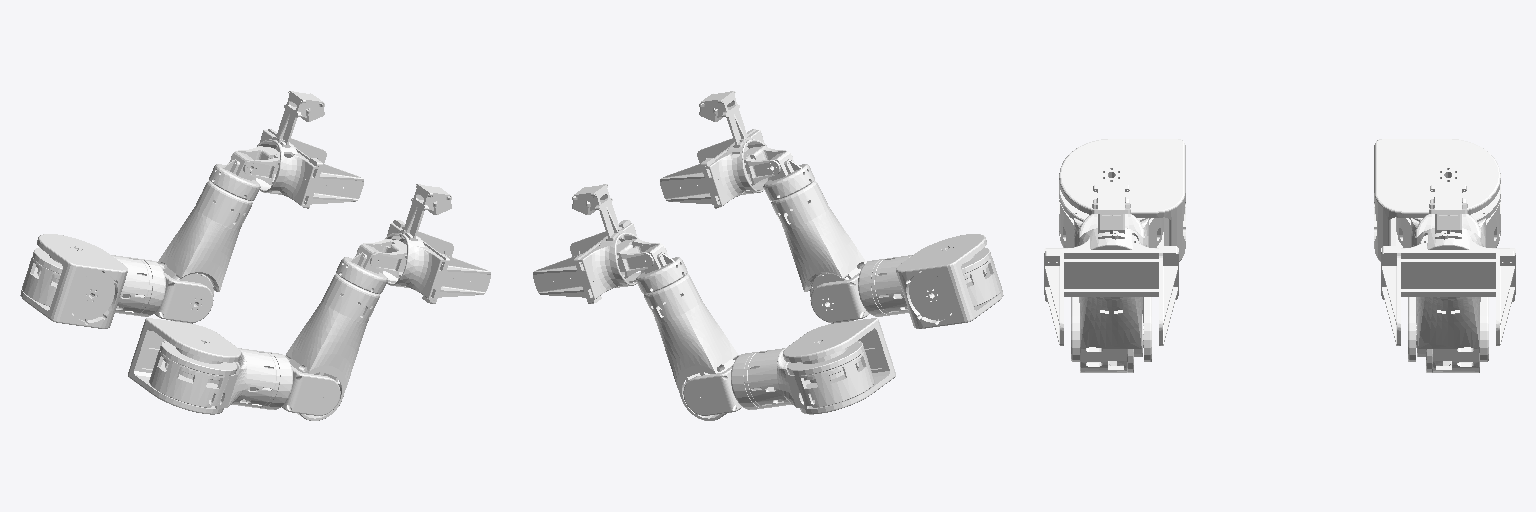
robot.urdf — two_arm_URDF:
<?xml version='1.0' encoding='utf-8'?>
<robot name="two_arm_URDF">
    <!--This URDF file is generated by ACDC4Robot: https://github.com/bionicdl-sustech/ACDC4Robot-->
    <material name="white">
        <color rgba="1.0 1.0 1.0 1.0"/>
    </material>
    <link name="base">
        <inertial>
            <origin xyz="0.40410575531806814 0.059937551918568255 1.9955650574212371" rpy="0.0 0.0 0.0" />
            <mass value="7.623086454049788" />
            <inertia ixx="-46.32176427456355" iyy="-48.21185693424127" izz="-1.0601741395840976" ixy="-0.00026200070757104963" iyz="-0.0014707216286333577" ixz="9.345162621353573" />
        </inertial>
        <visual name="base_visual">
            <origin xyz="0.0 0.0 0.0" rpy="0.0 0.0 0.0" />
            <geometry>
                <mesh filename="package://final_project_two_arm/meshes/base.stl" scale="0.001 0.001 0.001" />
            </geometry>
            <material name="white"/>
        </visual>
        <collision name="base_collision">
            <origin xyz="0.0 0.0 0.0" rpy="0.0 0.0 0.0" />
            <geometry>
                <mesh filename="package://final_project_two_arm/meshes/base.stl" scale="0.001 0.001 0.001" />
            </geometry>
        </collision>
    </link>
    <link name="link_1_L">
        <inertial>
            <origin xyz="-0.002668773721014537 -0.000839197752934523 0.04660885178456152" rpy="0.0 -0.0 0.0" />
            <mass value="3.421743575363238" />
            <inertia ixx="0.011838423004306875" iyy="0.010637735631850609" izz="0.009889603802875015" ixy="0.0005021978197019967" iyz="-0.00017075019695666818" ixz="-0.0004303792882128651" />
        </inertial>
        <visual name="link_1_L_visual">
            <origin xyz="-1.0566521080335178e-09 -1.587468818065041e-09 -0.18219999738539308" rpy="1.5707963267948963 7.134092525342091e-17 -1.2217304763960308" />
            <geometry>
                <mesh filename="package://final_project_two_arm/meshes/link_1_L.stl" scale="0.001 0.001 0.001" />
            </geometry>
            <material name="white"/>
        </visual>
        <collision name="link_1_L_collision">
            <origin xyz="-1.0566521080335178e-09 -1.587468818065041e-09 -0.18219999738539308" rpy="1.5707963267948963 7.134092525342091e-17 -1.2217304763960308" />
            <geometry>
                <mesh filename="package://final_project_two_arm/meshes/link_1_L.stl" scale="0.001 0.001 0.001" />
            </geometry>
        </collision>
    </link>
    <link name="link_2_L">
        <inertial>
            <origin xyz="-0.05421558600531332 -8.982456499495584e-08 -0.03797355580452049" rpy="5.559350596991761e-49 -0.0 0.0" />
            <mass value="6.111704826426955" />
            <inertia ixx="0.02716617825131984" iyy="0.027902603443471632" izz="0.011141471235318834" ixy="-1.4817129669053575e-08" iyz="-3.1745453488163394e-09" ixz="-0.007623201693326967" />
        </inertial>
        <visual name="link_2_L_visual">
            <origin xyz="-0.03723531841253132 -0.2599999973853932 0.013552551056651945" rpy="-1.7166778490517746e-16 0.3490658503988658 -5.198791104771606e-16" />
            <geometry>
                <mesh filename="package://final_project_two_arm/meshes/link_2_L.stl" scale="0.001 0.001 0.001" />
            </geometry>
            <material name="white"/>
        </visual>
        <collision name="link_2_L_collision">
            <origin xyz="-0.03723531841253132 -0.2599999973853932 0.013552551056651945" rpy="-1.7166778490517746e-16 0.3490658503988658 -5.198791104771606e-16" />
            <geometry>
                <mesh filename="package://final_project_two_arm/meshes/link_2_L.stl" scale="0.001 0.001 0.001" />
            </geometry>
        </collision>
    </link>
    <link name="link_4_L">
        <inertial>
            <origin xyz="0.03602465587835628 -0.0634388659252234 0.037597948235984335" rpy="0.0 -0.0 0.0" />
            <mass value="4.663440786379495" />
            <inertia ixx="0.017878244469046622" iyy="0.008963666837180861" izz="0.022560219247713287" ixy="0.007374875777730403" iyz="0.0002165922392891718" ixz="-0.00012391655282318354" />
        </inertial>
        <visual name="link_4_L_visual">
            <origin xyz="-0.11000000448374453 0.1905255887767474 -0.22199999738539944" rpy="1.5707963267949314 2.063224007579454e-14 -2.6179938779914944" />
            <geometry>
                <mesh filename="package://final_project_two_arm/meshes/link_4_L.stl" scale="0.001 0.001 0.001" />
            </geometry>
            <material name="white"/>
        </visual>
        <collision name="link_4_L_collision">
            <origin xyz="-0.11000000448374453 0.1905255887767474 -0.22199999738539944" rpy="1.5707963267949314 2.063224007579454e-14 -2.6179938779914944" />
            <geometry>
                <mesh filename="package://final_project_two_arm/meshes/link_4_L.stl" scale="0.001 0.001 0.001" />
            </geometry>
        </collision>
    </link>
    <link name="link_3_L">
        <inertial>
            <origin xyz="0.03272090834140208 -0.0003896912791539364 0.011909419364326634" rpy="0.0 -0.0 0.0" />
            <mass value="1.049458783805515" />
            <inertia ixx="0.0020546014496497234" iyy="0.0010995556057020878" izz="0.00233559795205604" ixy="9.224035152757826e-06" iyz="3.352272086570157e-06" ixz="-0.00011789250890269581" />
        </inertial>
        <visual name="link_3_L_visual">
            <origin xyz="-0.151525431056652 0.25999999738539276 -0.055150751587468724" rpy="3.1415926535897922 1.2217304763960308 1.428356116882155e-15" />
            <geometry>
                <mesh filename="package://final_project_two_arm/meshes/link_3_L.stl" scale="0.001 0.001 0.001" />
            </geometry>
            <material name="white"/>
        </visual>
        <collision name="link_3_L_collision">
            <origin xyz="-0.151525431056652 0.25999999738539276 -0.055150751587468724" rpy="3.1415926535897922 1.2217304763960308 1.428356116882155e-15" />
            <geometry>
                <mesh filename="package://final_project_two_arm/meshes/link_3_L.stl" scale="0.001 0.001 0.001" />
            </geometry>
        </collision>
    </link>
    <link name="link_5_L">
        <inertial>
            <origin xyz="0.011664701698788065 0.00020327928236483218 -0.02020386505189487" rpy="0.0 -0.0 -1.7516230804060217e-46" />
            <mass value="0.9945622772727956" />
            <inertia ixx="0.0005376359127803321" iyy="0.0005036146468778977" izz="0.0005867086739891891" ixy="-2.0193902573462093e-06" iyz="3.5068446871885923e-06" ixz="-4.24982292838438e-05" />
        </inertial>
        <visual name="link_5_L_visual">
            <origin xyz="-0.2006250044837452 0.2599999973854 0.34749268877674866" rpy="2.0986767188766295e-14 0.5235987755982988 3.141592653589769" />
            <geometry>
                <mesh filename="package://final_project_two_arm/meshes/link_5_L.stl" scale="0.001 0.001 0.001" />
            </geometry>
            <material name="white"/>
        </visual>
        <collision name="link_5_L_collision">
            <origin xyz="-0.2006250044837452 0.2599999973854 0.34749268877674866" rpy="2.0986767188766295e-14 0.5235987755982988 3.141592653589769" />
            <geometry>
                <mesh filename="package://final_project_two_arm/meshes/link_5_L.stl" scale="0.001 0.001 0.001" />
            </geometry>
        </collision>
    </link>
    <link name="end_point_L">
        <inertial>
            <origin xyz="0.07914667410098673 0.012226265043296075 0.01900223227536742" rpy="0.0 -0.0 0.0" />
            <mass value="2.238441847971124" />
            <inertia ixx="0.007812594483082247" iyy="0.006560847944082182" izz="0.006038197326536099" ixy="0.00037792118561552623" iyz="-5.8909878743504796e-05" ixz="1.581061220534667e-05" />
        </inertial>
        <visual name="end_point_L_visual">
            <origin xyz="-0.42286168410743896 -0.15390906732450685 -0.240999997385372" rpy="1.5707963267948768 3.098761874578949e-14 -1.2217304763960308" />
            <geometry>
                <mesh filename="package://final_project_two_arm/meshes/end_point_L.stl" scale="0.001 0.001 0.001" />
            </geometry>
            <material name="white"/>
        </visual>
        <collision name="end_point_L_collision">
            <origin xyz="-0.42286168410743896 -0.15390906732450685 -0.240999997385372" rpy="1.5707963267948768 3.098761874578949e-14 -1.2217304763960308" />
            <geometry>
                <mesh filename="package://final_project_two_arm/meshes/end_point_L.stl" scale="0.001 0.001 0.001" />
            </geometry>
        </collision>
    </link>
    <link name="link_1_R">
        <inertial>
            <origin xyz="-0.0026687737210101758 -0.0008391977529331918 -0.04660884655535592" rpy="0.0 -0.0 0.0" />
            <mass value="3.421743575364216" />
            <inertia ixx="0.011838423004310324" iyy="0.010637735631854417" izz="0.009889603802877626" ixy="0.0005021978197017701" iyz="0.00017075019695694384" ixz="0.00043037928821351425" />
        </inertial>
        <visual name="link_1_R_visual">
            <origin xyz="-1.0566520547428126e-09 -1.5874687864236847e-09 0.18220000261460745" rpy="-1.5707963267948963 7.134092525342202e-17 -1.2217304763960306" />
            <geometry>
                <mesh filename="package://final_project_two_arm/meshes/link_1_R.stl" scale="0.001 0.001 0.001" />
            </geometry>
            <material name="white"/>
        </visual>
        <collision name="link_1_R_collision">
            <origin xyz="-1.0566520547428126e-09 -1.5874687864236847e-09 0.18220000261460745" rpy="-1.5707963267948963 7.134092525342202e-17 -1.2217304763960306" />
            <geometry>
                <mesh filename="package://final_project_two_arm/meshes/link_1_R.stl" scale="0.001 0.001 0.001" />
            </geometry>
        </collision>
    </link>
    <link name="link_2_R">
        <inertial>
            <origin xyz="-0.05421560646906773 -9.602237601047392e-08 0.03797360219644077" rpy="0.0 -0.0 0.0" />
            <mass value="6.111710880540644" />
            <inertia ixx="0.027166211568185605" iyy="0.02790264020447325" izz="0.01114148123800594" ixy="-1.486523979387852e-08" iyz="3.1234863064055762e-09" ixz="0.007623212449300957" />
        </inertial>
        <visual name="link_2_R_visual">
            <origin xyz="-0.0372353184125312 -0.2600000026146075 -0.013552551056652052" rpy="-3.9920352689734593e-16 -0.349065850398866 -2.3881646511518015e-16" />
            <geometry>
                <mesh filename="package://final_project_two_arm/meshes/link_2_R.stl" scale="0.001 0.001 0.001" />
            </geometry>
            <material name="white"/>
        </visual>
        <collision name="link_2_R_collision">
            <origin xyz="-0.0372353184125312 -0.2600000026146075 -0.013552551056652052" rpy="-3.9920352689734593e-16 -0.349065850398866 -2.3881646511518015e-16" />
            <geometry>
                <mesh filename="package://final_project_two_arm/meshes/link_2_R.stl" scale="0.001 0.001 0.001" />
            </geometry>
        </collision>
    </link>
    <link name="link_4_R">
        <inertial>
            <origin xyz="0.03602465269167507 0.06343886803136405 0.03759794262673393" rpy="0.0 -0.0 0.0" />
            <mass value="4.66344073102469" />
            <inertia ixx="0.017878244167787986" iyy="0.008963667160317157" izz="0.022560219201456067" ixy="-0.0073748759605754685" iyz="-0.00021659219433970404" ixz="-0.00012391670165655971" />
        </inertial>
        <visual name="link_4_R_visual">
            <origin xyz="-0.11000000448374499 -0.19052558877674738 -0.22200000261461394" rpy="1.5707963267948644 2.175190069207012e-14 2.6179938779914944" />
            <geometry>
                <mesh filename="package://final_project_two_arm/meshes/link_4_R.stl" scale="0.001 0.001 0.001" />
            </geometry>
            <material name="white"/>
        </visual>
        <collision name="link_4_R_collision">
            <origin xyz="-0.11000000448374499 -0.19052558877674738 -0.22200000261461394" rpy="1.5707963267948644 2.175190069207012e-14 2.6179938779914944" />
            <geometry>
                <mesh filename="package://final_project_two_arm/meshes/link_4_R.stl" scale="0.001 0.001 0.001" />
            </geometry>
        </collision>
    </link>
    <link name="link_5_R">
        <inertial>
            <origin xyz="0.011664449915668342 -0.00020329922140977175 -0.020203432443585197" rpy="0.0 -0.0 0.0" />
            <mass value="0.9944903142302435" />
            <inertia ixx="0.0005375988209976243" iyy="0.000503524663906324" izz="0.0005866507030101997" ixy="2.024886267923409e-06" iyz="-3.5037884166966987e-06" ixz="-4.248017931512277e-05" />
        </inertial>
        <visual name="link_5_R_visual">
            <origin xyz="-0.20062500448374582 -0.26000000261461353 0.3474926887767492" rpy="3.1415926535897745 0.5235987755982989 -3.141592653589768" />
            <geometry>
                <mesh filename="package://final_project_two_arm/meshes/link_5_R.stl" scale="0.001 0.001 0.001" />
            </geometry>
            <material name="white"/>
        </visual>
        <collision name="link_5_R_collision">
            <origin xyz="-0.20062500448374582 -0.26000000261461353 0.3474926887767492" rpy="3.1415926535897745 0.5235987755982989 -3.141592653589768" />
            <geometry>
                <mesh filename="package://final_project_two_arm/meshes/link_5_R.stl" scale="0.001 0.001 0.001" />
            </geometry>
        </collision>
    </link>
    <link name="end_point_R">
        <inertial>
            <origin xyz="0.0791466666602861 -0.01222637189555428 0.019002298543171328" rpy="0.0 1.4779319740925805e-46 0.0" />
            <mass value="2.238439986935529" />
            <inertia ixx="0.007812532780139221" iyy="0.006560782847279012" izz="0.006038206833950621" ixy="-0.00037792979780856877" iyz="5.890855258805285e-05" ixz="1.5812784071190092e-05" />
        </inertial>
        <visual name="end_point_R_visual">
            <origin xyz="-0.4228616841074397 0.15390906732450652 -0.2410000026145887" rpy="1.5707963267949157 3.234100717758874e-14 1.2217304763960306" />
            <geometry>
                <mesh filename="package://final_project_two_arm/meshes/end_point_R.stl" scale="0.001 0.001 0.001" />
            </geometry>
            <material name="white"/>
        </visual>
        <collision name="end_point_R_collision">
            <origin xyz="-0.4228616841074397 0.15390906732450652 -0.2410000026145887" rpy="1.5707963267949157 3.234100717758874e-14 1.2217304763960306" />
            <geometry>
                <mesh filename="package://final_project_two_arm/meshes/end_point_R.stl" scale="0.001 0.001 0.001" />
            </geometry>
        </collision>
    </link>
    <link name="link_3_R">
        <inertial>
            <origin xyz="0.03272091490920747 0.0003896841540610696 0.011909421815884995" rpy="1.0947644252537633e-47 -0.0 0.0" />
            <mass value="1.049458547261083" />
            <inertia ixx="0.0020546010105775654" iyy="0.0010995553063330994" izz="0.0023355973886947656" ixy="-9.224093249278474e-06" iyz="-3.3522941348604336e-06" ixz="-0.00011789245840576959" />
        </inertial>
        <visual name="link_3_R_visual">
            <origin xyz="-0.1515254310566522 -0.2600000026146071 -0.05515075158746881" rpy="-2.304555219687488e-16 1.2217304763960306 -6.561428452979289e-16" />
            <geometry>
                <mesh filename="package://final_project_two_arm/meshes/link_3_R.stl" scale="0.001 0.001 0.001" />
            </geometry>
            <material name="white"/>
        </visual>
        <collision name="link_3_R_collision">
            <origin xyz="-0.1515254310566522 -0.2600000026146071 -0.05515075158746881" rpy="-2.304555219687488e-16 1.2217304763960306 -6.561428452979289e-16" />
            <geometry>
                <mesh filename="package://final_project_two_arm/meshes/link_3_R.stl" scale="0.001 0.001 0.001" />
            </geometry>
        </collision>
    </link>
    <joint name="rot_L1" type="revolute">
        <origin xyz="1.0566520103338918e-09 0.18219999738539272 -1.5874686876138357e-09" rpy="-1.5707963267948961 1.6653345369377336e-16 7.21644966006351e-16" />
        <parent link="base" />
        <child link="link_1_L" />
        <axis xyz="-4.1663675001976565e-32 3.8857805861880464e-16 1.0" />
        <limit lower="-3.1416" upper="3.1416" effort="10.0" velocity="0.34" />
    </joint>
    <joint name="rot_L2" type="revolute">
        <origin xyz="0.013552550000000005 -0.03723531999999997 0.07780000000000005" rpy="1.5707963267948966 -3.8857805861880464e-16 -1.5707963267948966" />
        <parent link="link_1_L" />
        <child link="link_2_L" />
        <axis xyz="-0.939693 9.299886998271218e-32 0.3420199999999999" />
        <limit lower="-2.0944" upper="0.3491" effort="10.0" velocity="0.34" />
    </joint>
    <joint name="rot_L3" type="revolute">
        <origin xyz="-0.09238606999999999 0.0 -0.13797288" rpy="-3.141592653589793 1.5707963267948966 0" />
        <parent link="link_2_L" />
        <child link="link_3_L" />
        <axis xyz="0.939693 2.1078609906538316e-33 0.34202" />
        <limit lower="-3.1416" upper="3.1416" effort="10.0" velocity="1.02" />
    </joint>
    <joint name="rot_L4" type="revolute">
        <origin xyz="0.05520695 0.03800000000000004 0.020093680000000003" rpy="1.5707963267948974 -1.1102230246251565e-16 5.473822126268817e-48" />
        <parent link="link_3_L" />
        <child link="link_4_L" />
        <axis xyz="0.0 7.771561172376089e-16 1.0" />
        <limit lower="-2.0944" upper="0.1745" effort="10.0" velocity="1.02" />
    </joint>
    <joint name="rot_L5" type="revolute">
        <origin xyz="0.090625 -0.15696709999999997 0.038000000000000186" rpy="-1.5707963267948974 -4.733165431326071e-30 0.0" />
        <parent link="link_4_L" />
        <child link="link_5_L" />
        <axis xyz="0.49999999999999994 0.0 -0.866025" />
        <limit lower="-3.1416" upper="3.1416" effort="10.0" velocity="5.11" />
    </joint>
    <joint name="rot_R1" type="revolute">
        <origin xyz="1.0566521702060073e-09 -0.0622000026146073 -1.5874687281369759e-09" rpy="-1.5707963267948968 1.6653345369377336e-16 7.21644966006351e-16" />
        <parent link="base" />
        <child link="link_1_R" />
        <axis xyz="-4.1663675001976565e-32 -3.8857805861880464e-16 1.0" />
        <limit lower="-3.1416" upper="3.1416" effort="10.0" velocity="0.34" />
    </joint>
    <joint name="rot_R2" type="revolute">
        <origin xyz="0.013552550000000005 -0.03723531999999997 -0.07780000000000002" rpy="-1.5707963267948966 3.8857805861880464e-16 -1.5707963267948968" />
        <parent link="link_1_R" />
        <child link="link_2_R" />
        <axis xyz="0.939693 -3.1354432147666987e-32 0.34202" />
        <limit lower="-2.0944" upper="0.3491" effort="10.0" velocity="0.34" />
    </joint>
    <joint name="rot_R3" type="revolute">
        <origin xyz="-0.09238607 0.0 0.13797288" rpy="1.2325951644078305e-32 -1.5707963267948966 0" />
        <parent link="link_2_R" />
        <child link="link_3_R" />
        <axis xyz="-0.939693 -2.1036110025269536e-32 -0.34202" />
        <limit lower="-3.1416" upper="3.1416" effort="10.0" velocity="1.02" />
    </joint>
    <joint name="rot_R4" type="revolute">
        <origin xyz="0.05520695 -0.038000000000000006 0.020093679999999996" rpy="-1.5707963267948974 -3.646298014371764e-63 4.930380657631325e-32" />
        <parent link="link_3_R" />
        <child link="link_4_R" />
        <axis xyz="0.0 7.771561172376087e-16 -1.0" />
        <limit lower="-2.0944" upper="0.1745" effort="10.0" velocity="1.02" />
    </joint>
    <joint name="rot_R5" type="revolute">
        <origin xyz="0.090625 0.15696709999999997 0.038000000000000124" rpy="1.5707963267948974 -0.0 0.0" />
        <parent link="link_4_R" />
        <child link="link_5_R" />
        <axis xyz="-0.5 1.9438321565550953e-30 0.866025" />
        <limit lower="-3.1416" upper="3.1416" effort="10.0" velocity="5.11" />
    </joint>
    <joint name="rot_R6" type="revolute">
        <origin xyz="0.024375 -0.019000000000000003 -0.04221874" rpy="-1.5707963267948974 5.551115123125783e-17 3.1554436208840472e-30" />
        <parent link="link_5_R" />
        <child link="end_point_R" />
        <axis xyz="-3.1554436208840472e-30 7.771561172376069e-16 -1.0" />
        <limit lower="-1.7453" upper="1.7453" effort="10.0" velocity="5.11" />
    </joint>
    <joint name="rot_L6" type="revolute">
        <origin xyz="0.024375 0.01900000000000006 -0.04221874" rpy="1.5707963267948974 5.551115123125783e-17 4.733165431326072e-30" />
        <parent link="link_5_L" />
        <child link="end_point_L" />
        <axis xyz="0.0 7.771561172376101e-16 1.0" />
        <limit lower="-1.7453" upper="1.7453" effort="10.0" velocity="5.11" />
    </joint>
</robot>

--- Facts derived from the render (not from the file) ---
Views: 3 orthographic renders of the robot side by side, from view 1: azimuth 30°, elevation 25°; view 2: azimuth 150°, elevation 25°; view 3: azimuth 270°, elevation 25°.
Robot: two_arm_URDF — 13 links, 12 joints (12 revolute); root link base; default pose: all joints at 0.
Visible links, largest first — view 1: link_2_R, end_point_R, end_point_L, link_4_R, link_1_L, link_4_L, link_1_R, link_2_L, link_3_L, link_3_R, link_5_L, link_5_R; view 2: link_2_L, end_point_L, end_point_R, link_4_L, link_1_R, link_4_R, link_1_L, link_2_R, link_3_L, link_3_R, link_5_R, link_5_L; view 3: end_point_L, end_point_R, link_1_L, link_1_R, link_4_L, link_4_R, link_2_L, link_2_R, link_3_L, link_3_R.
Link boxes in pixels (x1=…): link_2_R: x1=149, y1=341, x2=292, y2=409; end_point_R: x1=357, y1=184, x2=490, y2=303; end_point_L: x1=231, y1=91, x2=363, y2=208; link_4_R: x1=286, y1=273, x2=379, y2=420; link_1_L: x1=20, y1=234, x2=127, y2=328; link_4_L: x1=157, y1=180, x2=252, y2=323; link_1_R: x1=128, y1=318, x2=240, y2=414; link_2_L: x1=22, y1=247, x2=165, y2=316; link_3_L: x1=155, y1=261, x2=213, y2=322; link_3_R: x1=282, y1=354, x2=340, y2=415; link_5_L: x1=209, y1=151, x2=260, y2=200; link_5_R: x1=336, y1=244, x2=387, y2=293; link_2_L: x1=731, y1=341, x2=874, y2=409; end_point_L: x1=533, y1=184, x2=666, y2=303; end_point_R: x1=660, y1=91, x2=792, y2=208; link_4_L: x1=644, y1=273, x2=737, y2=420; link_1_R: x1=896, y1=234, x2=1003, y2=328; link_4_R: x1=771, y1=180, x2=866, y2=323; link_1_L: x1=783, y1=318, x2=895, y2=414; link_2_R: x1=858, y1=247, x2=1001, y2=316; link_3_L: x1=683, y1=354, x2=741, y2=415; link_3_R: x1=810, y1=261, x2=868, y2=322; link_5_R: x1=763, y1=151, x2=814, y2=200; link_5_L: x1=636, y1=244, x2=687, y2=293; end_point_L: x1=1381, y1=185, x2=1515, y2=345; end_point_R: x1=1044, y1=185, x2=1178, y2=345; link_1_L: x1=1374, y1=139, x2=1500, y2=261; link_1_R: x1=1059, y1=139, x2=1185, y2=261; link_4_L: x1=1416, y1=297, x2=1480, y2=372; link_4_R: x1=1079, y1=297, x2=1143, y2=372; link_2_L: x1=1396, y1=184, x2=1500, y2=247; link_2_R: x1=1059, y1=184, x2=1163, y2=247; link_3_L: x1=1408, y1=297, x2=1488, y2=361; link_3_R: x1=1071, y1=297, x2=1151, y2=361.
Size in the robot's own frame: 0.5791 by 0.5593 by 0.3396 metres.
12 mesh visuals loaded from 13 distinct referenced files (12 binary STL); not drawn: 1 (reference not matched to a file when rendering).
